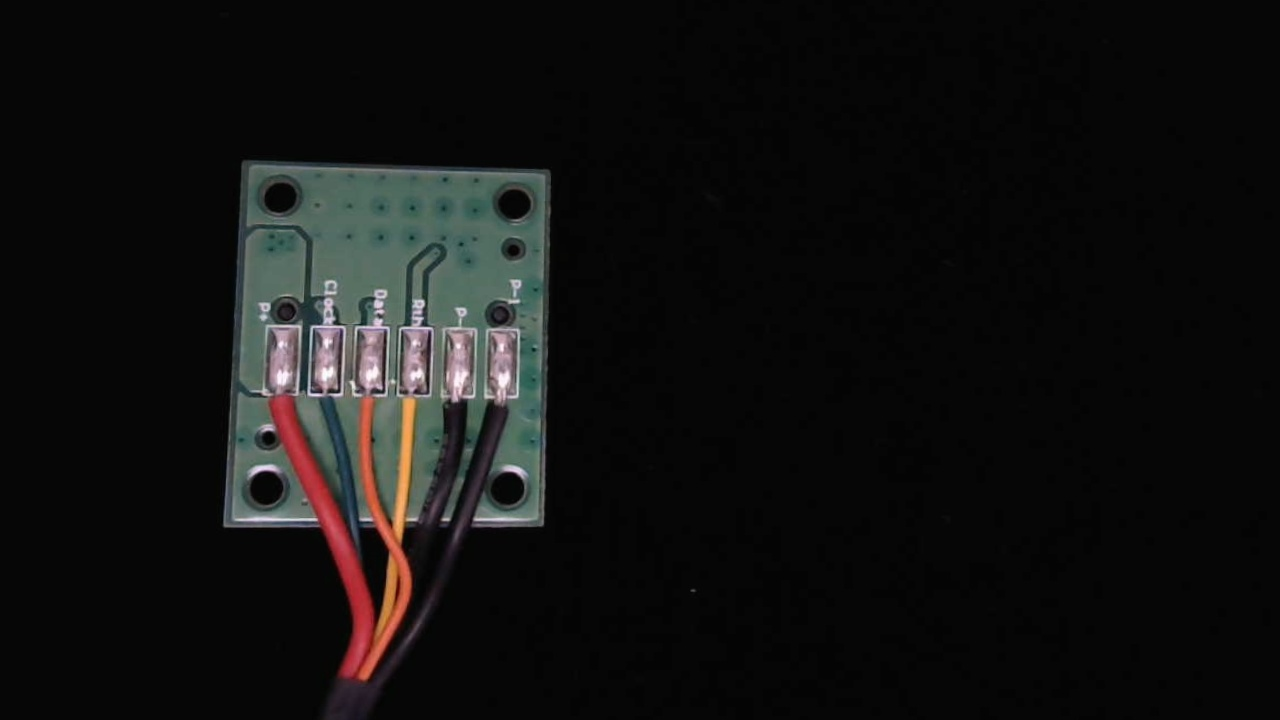Black: (438, 378, 471, 447)
Black1: (484, 379, 517, 446)
Green: (307, 376, 344, 443)
Orange: (348, 377, 387, 445)
Red: (263, 377, 298, 450)
Yellow: (393, 376, 429, 454)
